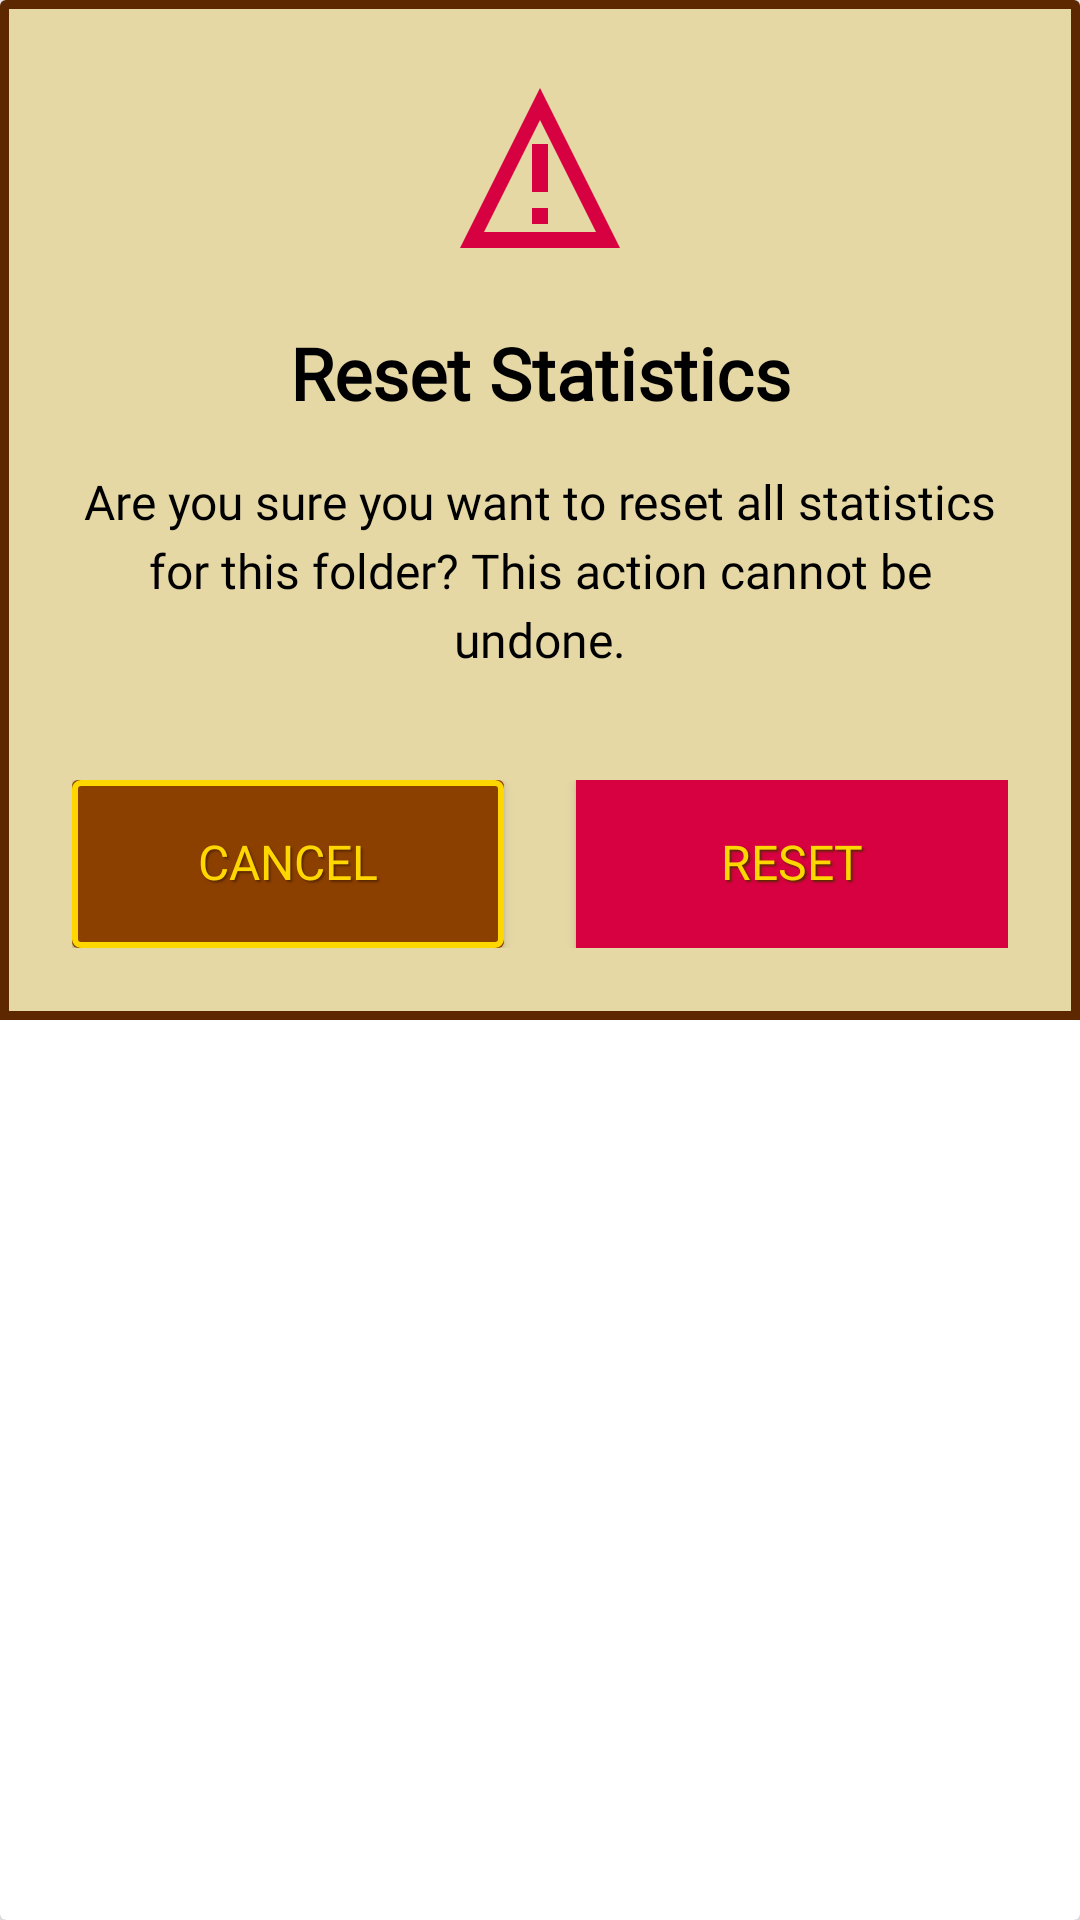

Screen size 1080w x 1920h. Icon name, then its center in pixels as point (x, y):
warning: point (540, 168)
